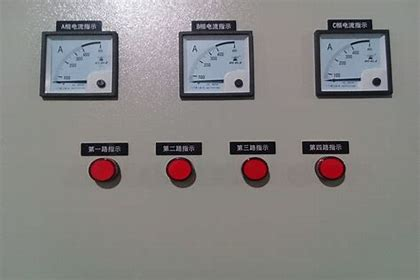pointer: (43, 33, 114, 94), (182, 34, 251, 96), (318, 32, 388, 91)
